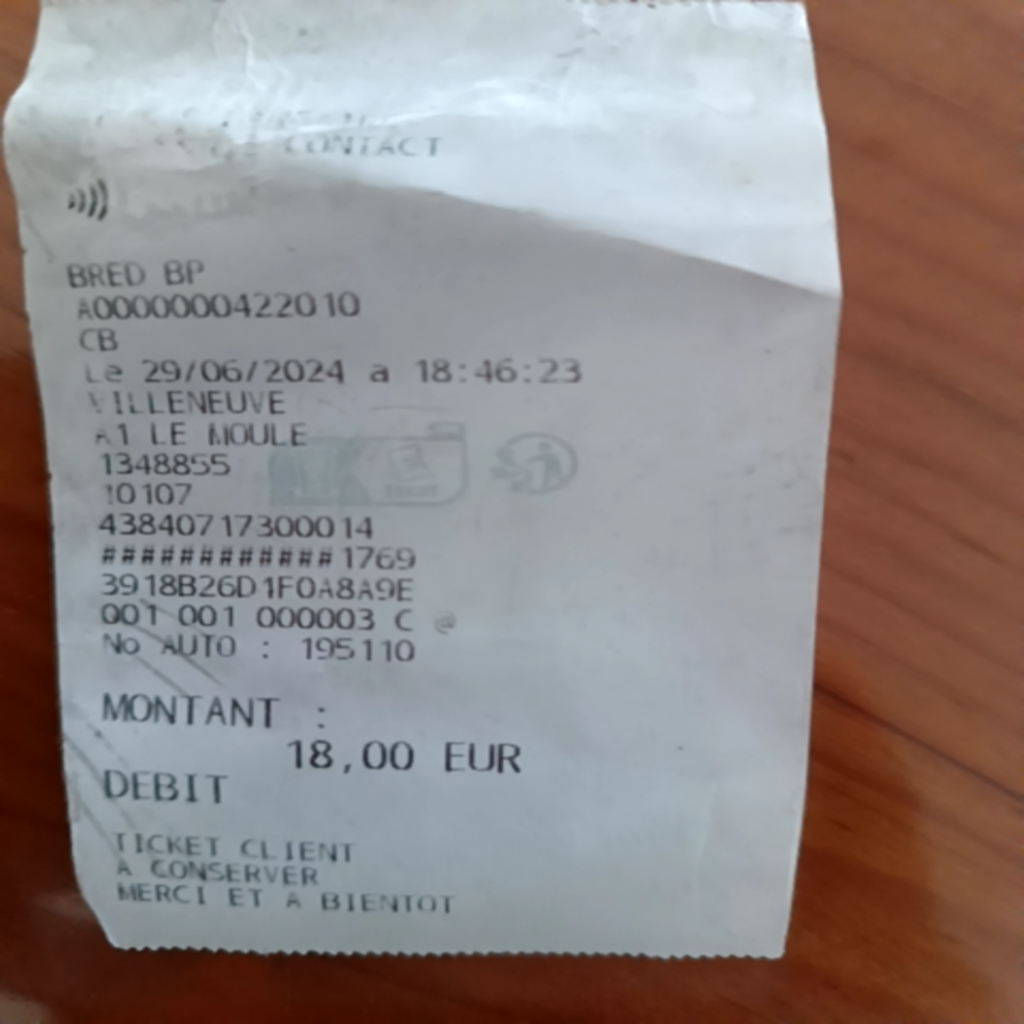recipt: (0, 0, 839, 963)
